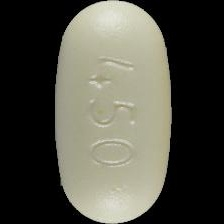68151-4361: (0, 0, 224, 224)
